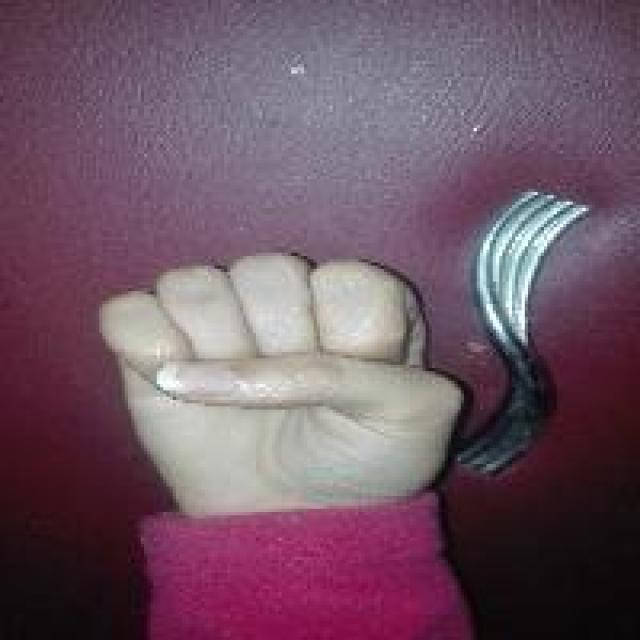E: (96, 240, 477, 522)
